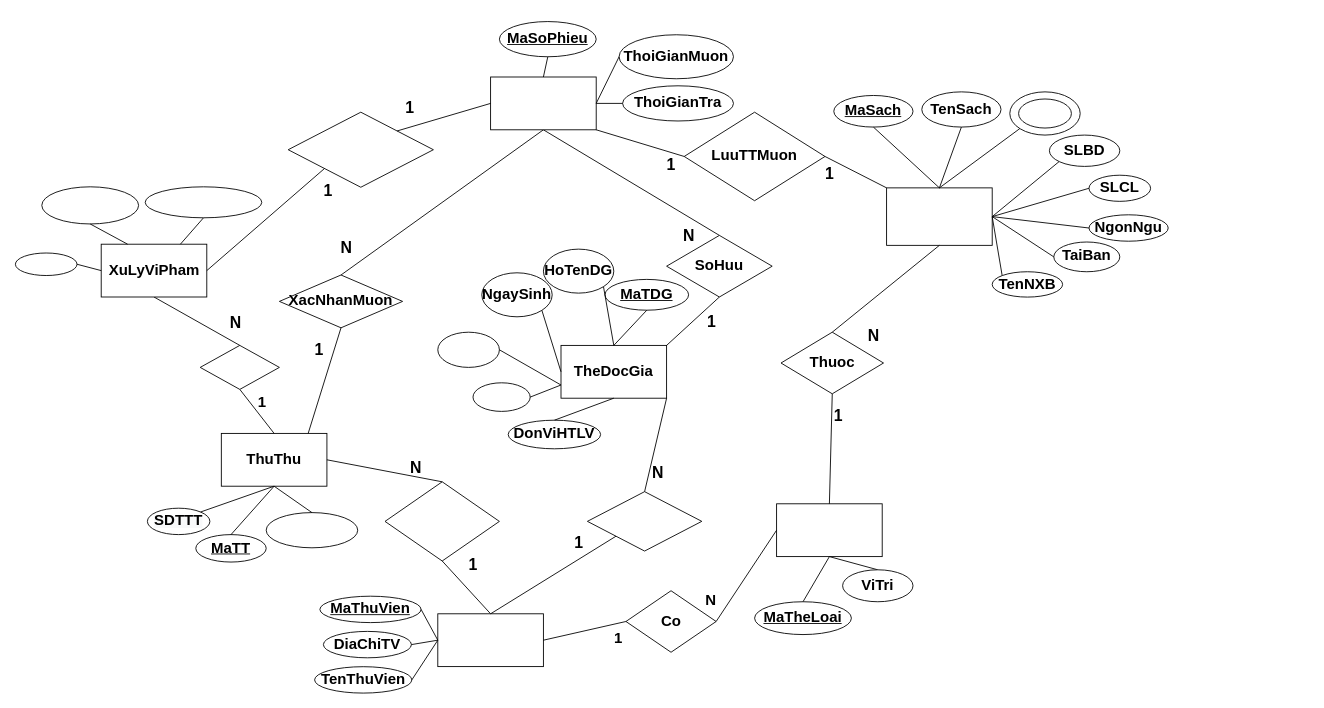
The diagram is 1324 pixels wide and 708 high, and some of its shapes have lost their labels. The shapes that lost their labels are listed below. From the top down, each one's centre as x and y in pixels, then its label:
At pixel 543 103: "PhieuMuon".
At pixel 1044 113: "TacGia".
At pixel 360 149: "LuuTTViPham".
At pixel 90 205: "LoiViPham".
At pixel 203 202: "HinhThucPhat".
At pixel 939 216: "Sach".
At pixel 46 264: "MaXP".
At pixel 239 367: "XuLy".
At pixel 468 349: "SDT".
At pixel 501 396: "DiaChi".
At pixel 311 530: "HoTenTT".
At pixel 441 521: "LamViecCho".
At pixel 644 521: "QuanLy".
At pixel 829 530: "TheLoai".
At pixel 490 640: "ThuVien".
